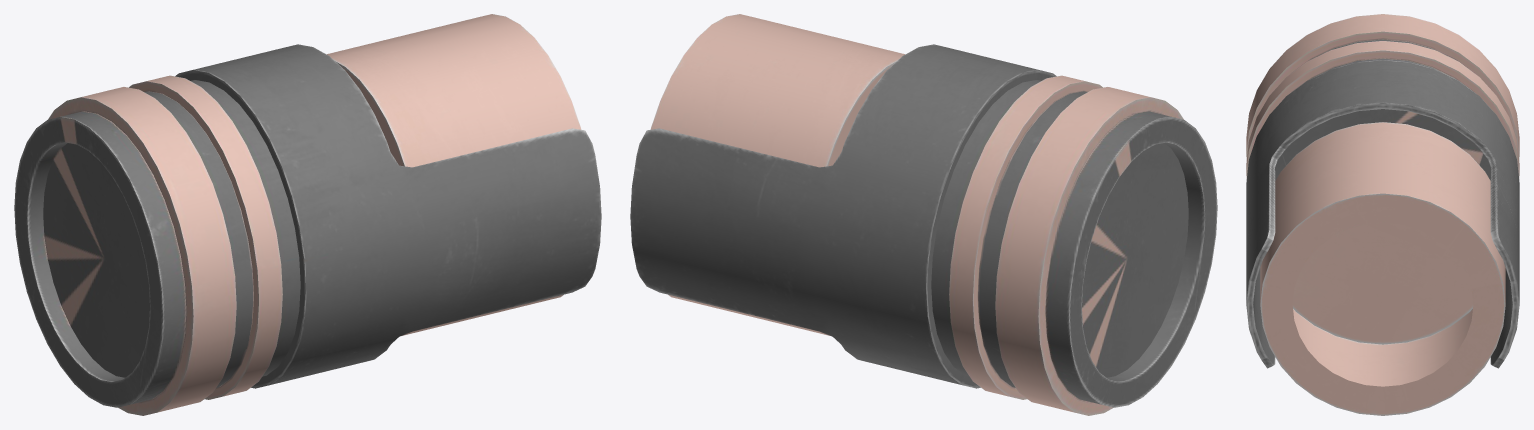
The model's file is pommel_4_c_c.glb.
3 renders of one model, left to right at view 1: azimuth 30°, elevation 25°; view 2: azimuth 150°, elevation 25°; view 3: azimuth 270°, elevation 25°, orthographic. The views are drawn at different scales.
Visible parts, largest first — view 1: pommel_4_c_c_lod0; view 2: pommel_4_c_c_lod0; view 3: pommel_4_c_c_lod0.
Boxes of the visible parts, left/top/right/bottom form: pommel_4_c_c_lod0: left=14, top=14, right=601, bottom=415; pommel_4_c_c_lod0: left=630, top=14, right=1217, bottom=415; pommel_4_c_c_lod0: left=1246, top=14, right=1519, bottom=415.
Size of what is drawn, in the model's own units: 0.0492 by 0.0322 by 0.0322.
1 material, 1 textured.
